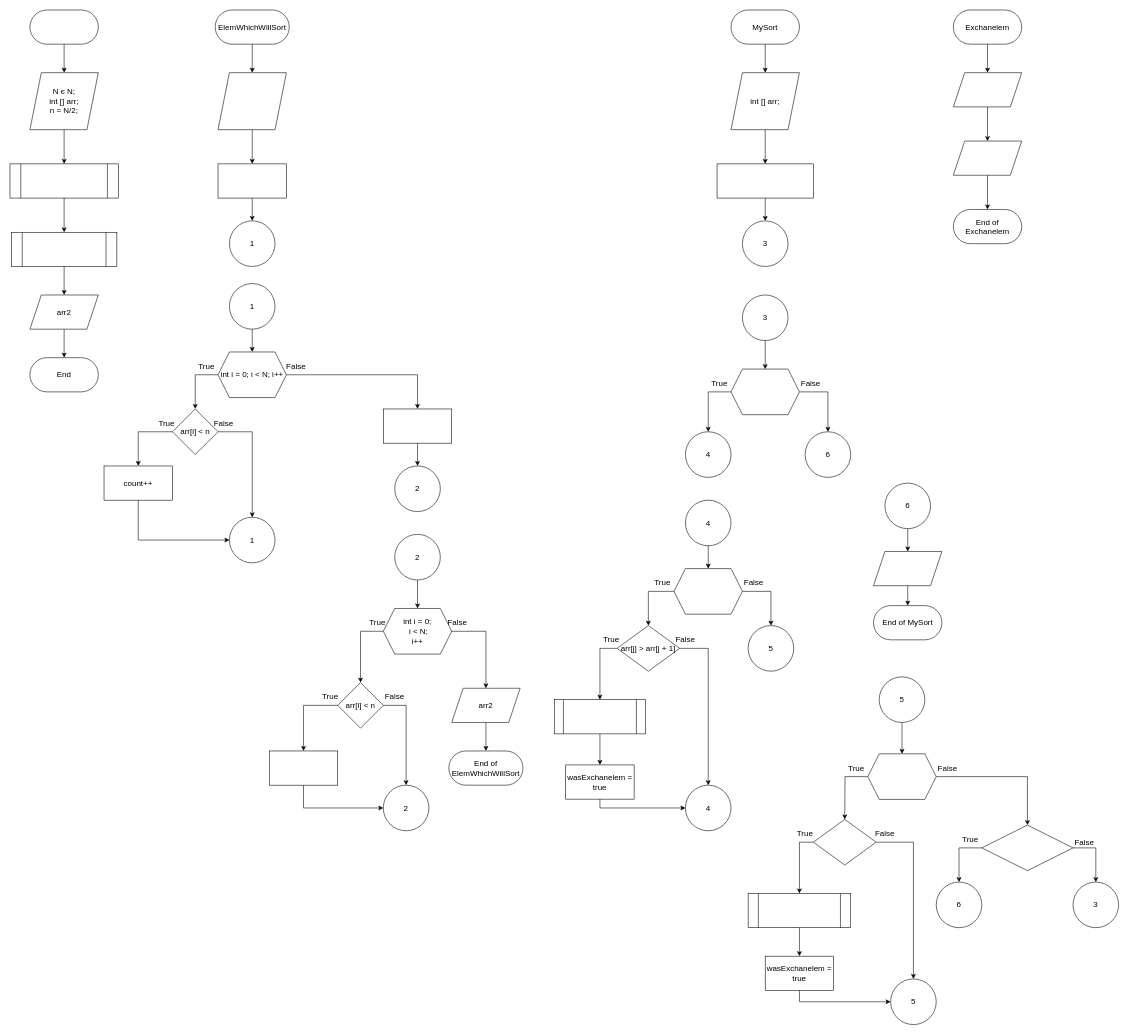
Some shapes in this 1129 by 1035 pixel diagram are drawn without their labels. The shapes that lost their labels are listed below. From the top down, each one's box as (x1, y1, x2, y2) in pixels, then its label:
(29, 9, 98, 44): Start
(217, 72, 286, 130): int [] arr; n є N;
(953, 72, 1022, 107): int [] arr1; int [] arr2
(953, 141, 1022, 175): temp = arr1; arr1 = arr2; arr2 = temp
(9, 163, 118, 198): int arr2 = ElemWhichWillSort(arr, n)
(217, 163, 286, 198): count = 0; N = arr.Length; index = 0
(716, 163, 813, 198): N = arr.Length; bool wasExchanelem = false
(11, 232, 117, 266): arr2 = MySort(arr2)
(730, 369, 799, 415): i = 0; i < N / 2; i++
(383, 408, 452, 443): int[count] arr2
(873, 551, 942, 586): arr
(673, 568, 742, 614): j = i; j < N - i - 1; j++
(554, 699, 646, 734): Exchanelem(arr[j], arr[j + 1])
(269, 750, 338, 785): arr2[index] = arr[i]; index++;
(867, 753, 936, 799): j = N - 2 - i; j > i; j--
(813, 819, 876, 865): arr[j - 1] > arr[j]
(981, 825, 1073, 871): !wasExchanelem
(748, 893, 851, 928): Exchanelem( arr[j - 1], arr[j]);
